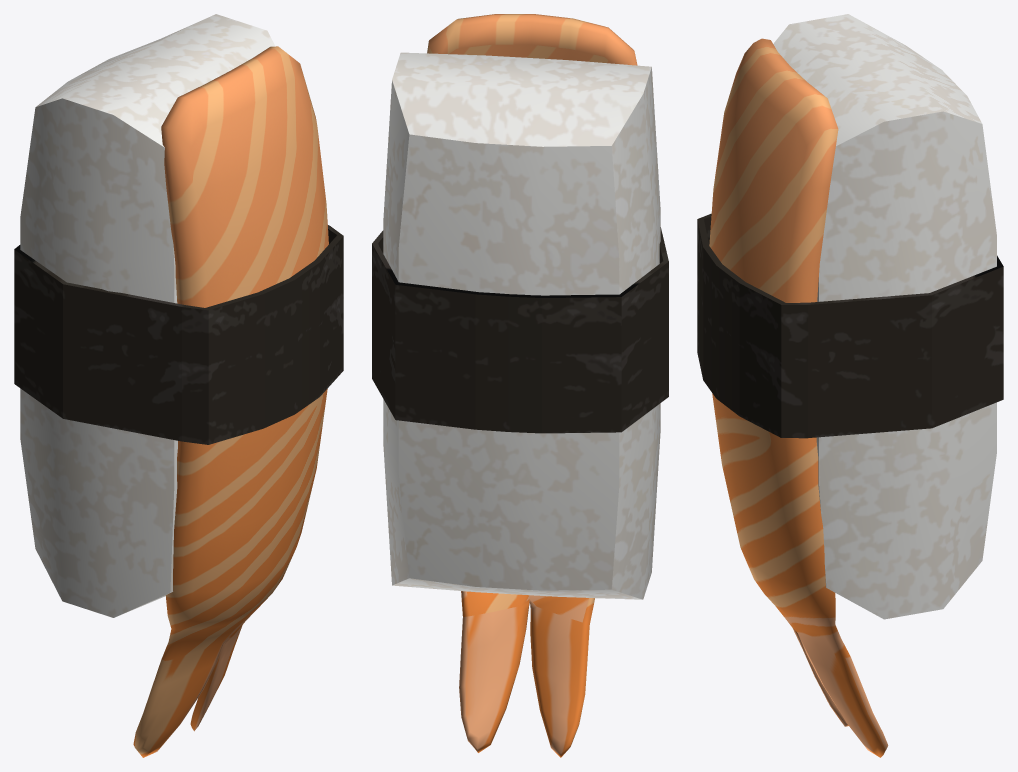
Rendered from SUSHI1.fbx.
3 views of the same model, side by side, from view 1: azimuth 30°, elevation 25°; view 2: azimuth 150°, elevation 25°; view 3: azimuth 270°, elevation 25° (orthographic).
Parts seen in each view (by area): view 1: polySurface1; view 2: polySurface1; view 3: polySurface1.
Part boxes in pixels (<box>): polySurface1: <box>14,14,343,757</box>; polySurface1: <box>372,14,668,757</box>; polySurface1: <box>697,14,1003,757</box>.
Size of the model in its own units: 50.05 by 128 by 51.44.
